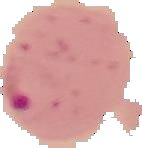parasitized: (4, 48, 58, 118)
